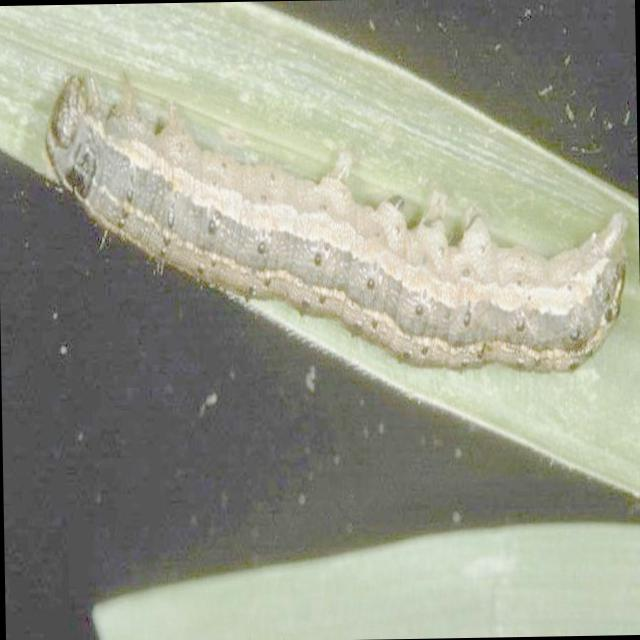pest: (50, 82, 616, 375)
